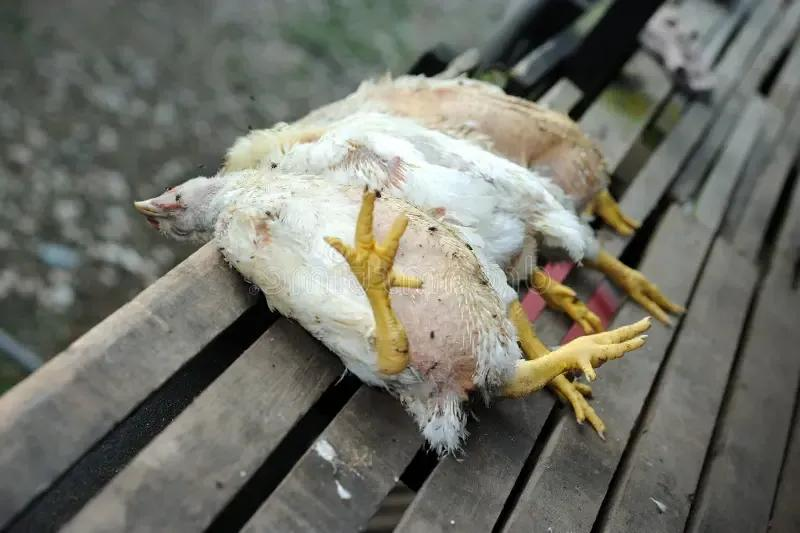AbNormal: (134, 64, 693, 433)
